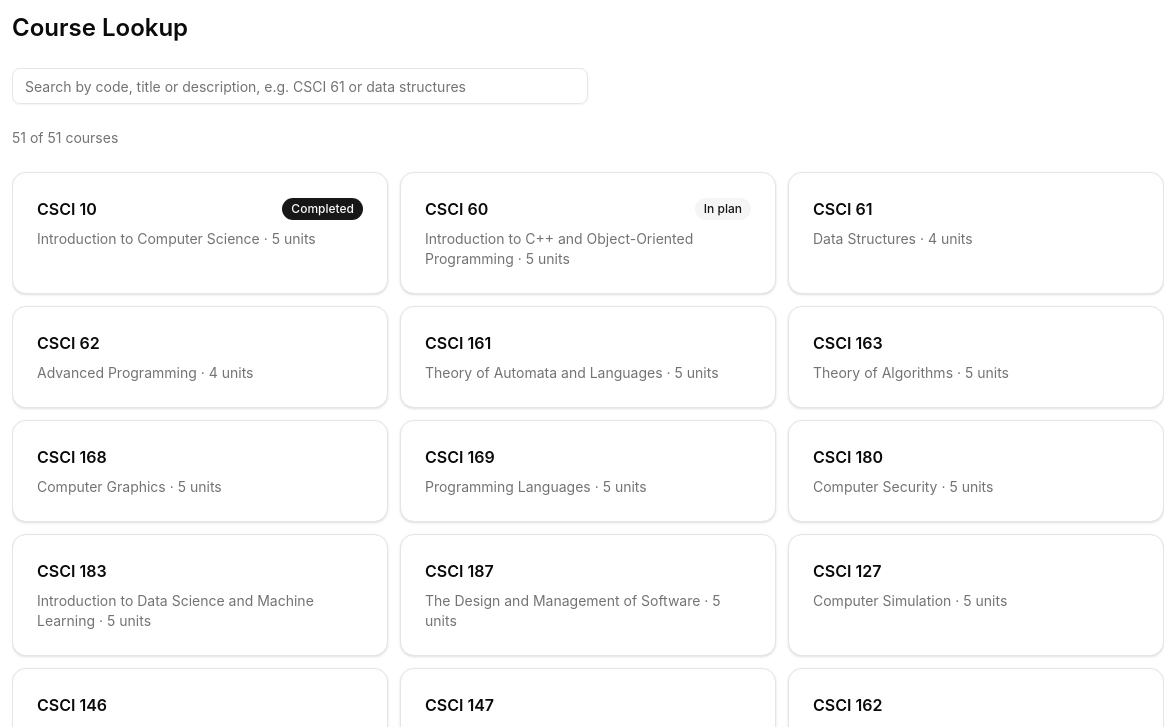
Test: course lookup page › lists every offered course and filters as the student types
Expected: the text "51 of 51 courses" is shown, [12,129,118,146]
Replace the text in the search field named "Search courses" with "data structures" at (300, 86), box [12,68,588,104]
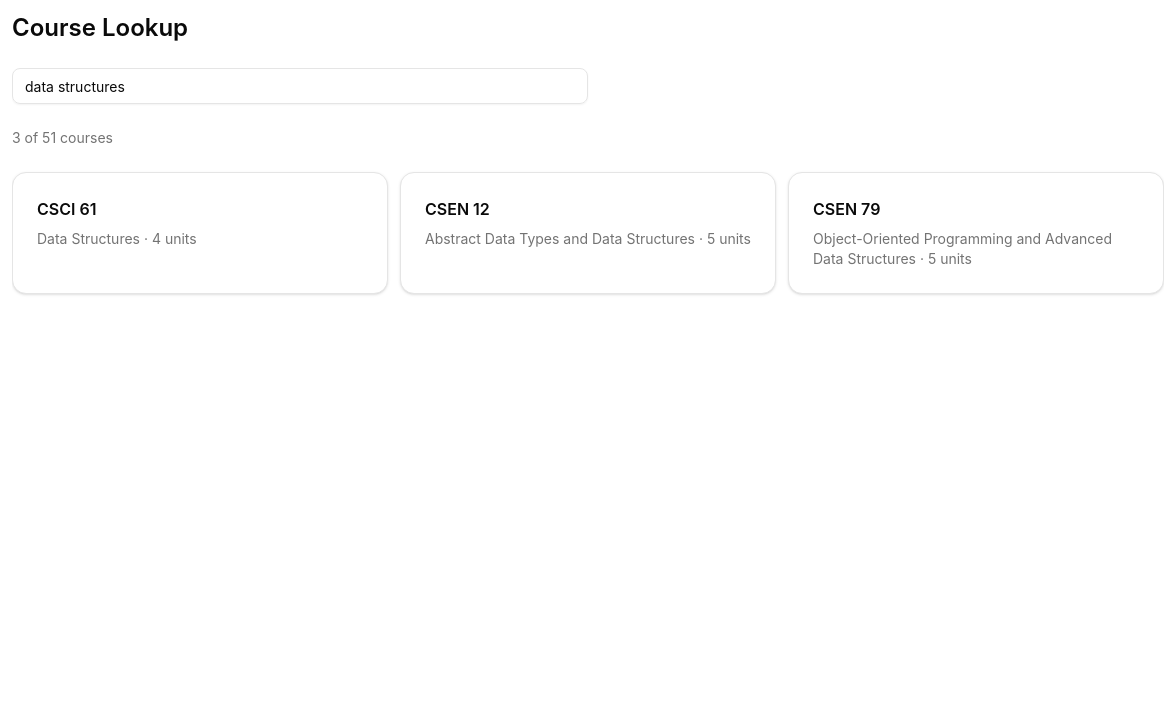
Now the text "3 of 51 courses" is shown, box [12,129,113,146]
